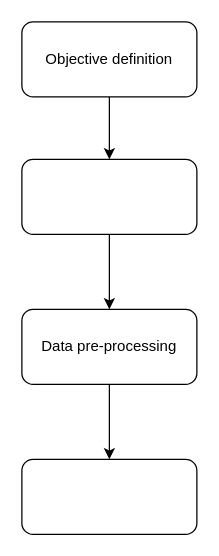
The diagram is 219 pixels wide and 556 high, and some of its shapes have lost their labels. The box of each missing label's shape, as (x1, y1, x2, y2) in pixels:
Data collection: (21, 158, 197, 234)
Model training and performance evaluation: (21, 458, 197, 534)
